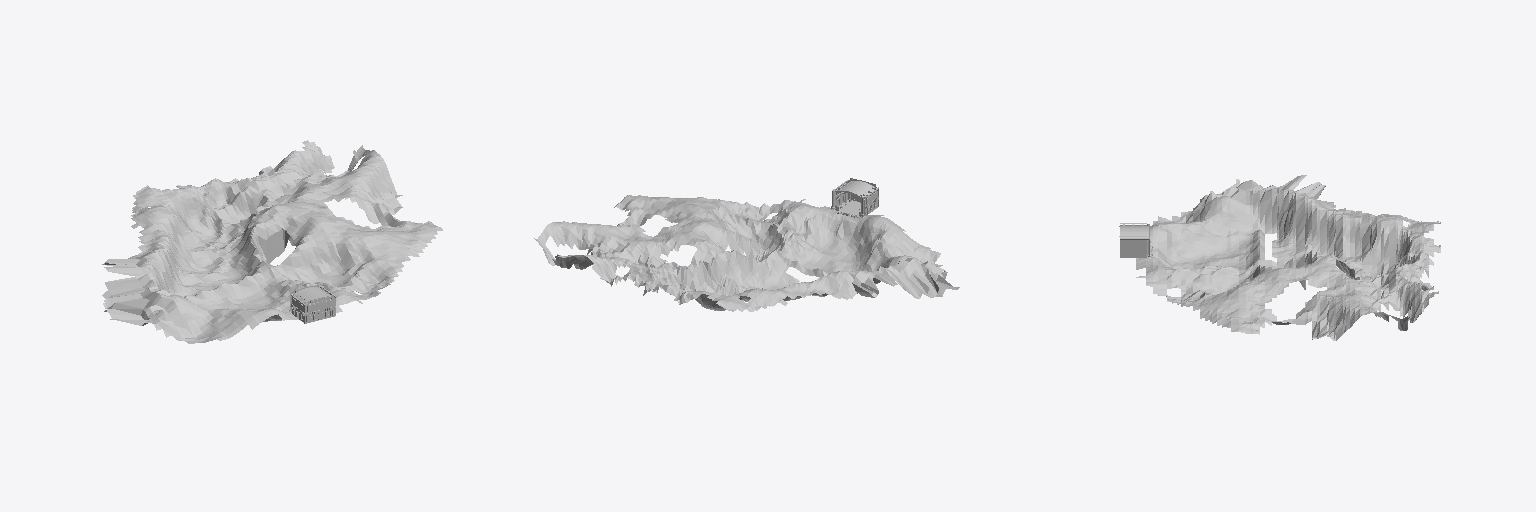
The model's file is lowpoly3.obj.
3 renders of one model, left to right at view 1: azimuth 30°, elevation 25°; view 2: azimuth 150°, elevation 25°; view 3: azimuth 270°, elevation 25°, orthographic.
Visible parts, largest first — view 1: Terrain_09_50000_Terrain_50000, camera2; view 2: Terrain_09_50000_Terrain_50000, camera2; view 3: Terrain_09_50000_Terrain_50000, camera2.
Boxes of the visible parts, box(x1,y1,x2,y2) form: Terrain_09_50000_Terrain_50000: box(102, 140, 442, 343); camera2: box(289, 285, 336, 323); Terrain_09_50000_Terrain_50000: box(534, 195, 959, 311); camera2: box(831, 178, 878, 217); Terrain_09_50000_Terrain_50000: box(1136, 175, 1440, 340); camera2: box(1119, 223, 1152, 258).
Bounding box in the file's own units: 1650 × 247 × 1353.